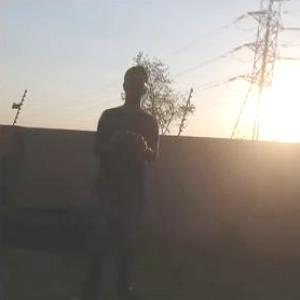follow: (69, 57, 165, 299)
